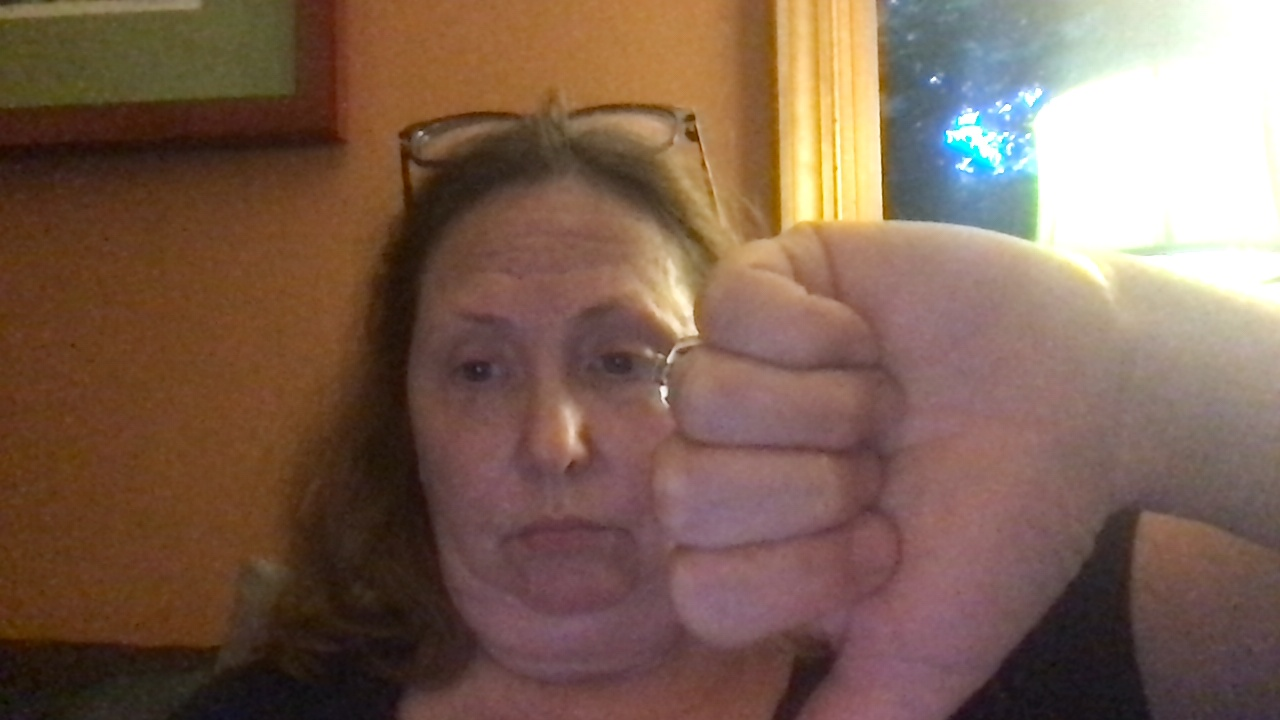thumbsdown: (649, 217, 1111, 720)
